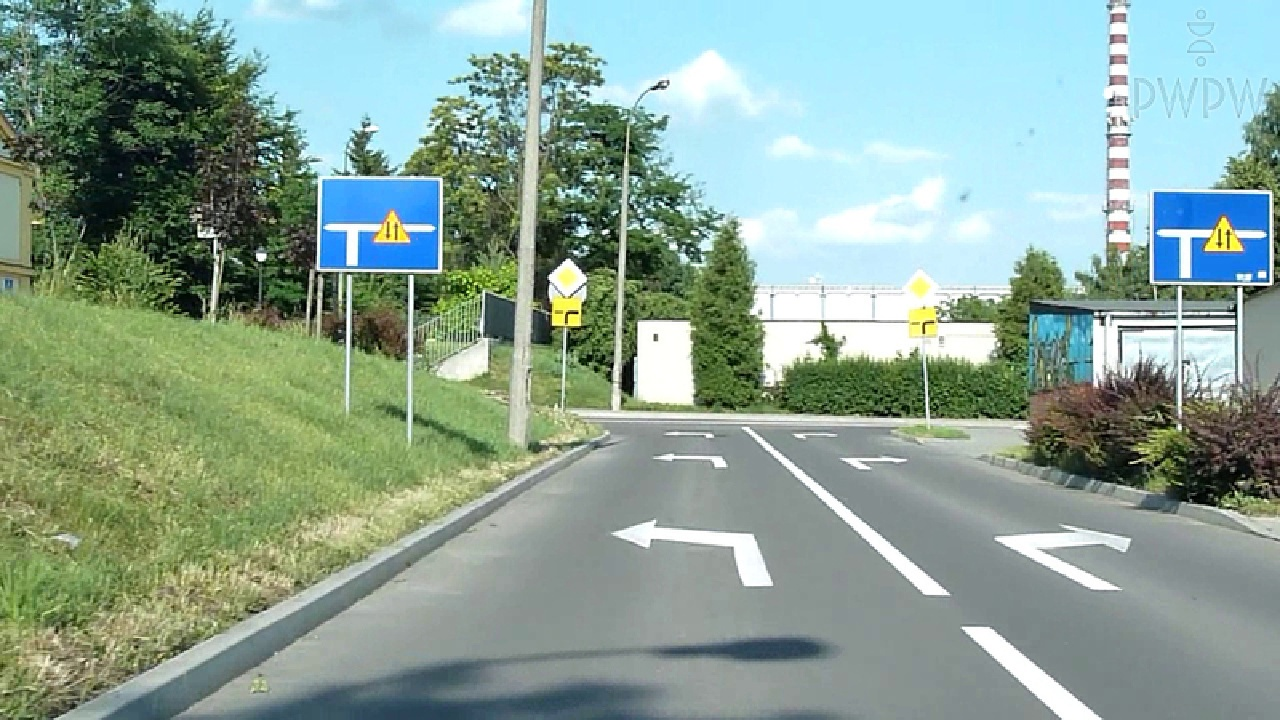D1: (548, 258, 587, 298), (901, 268, 939, 306)
